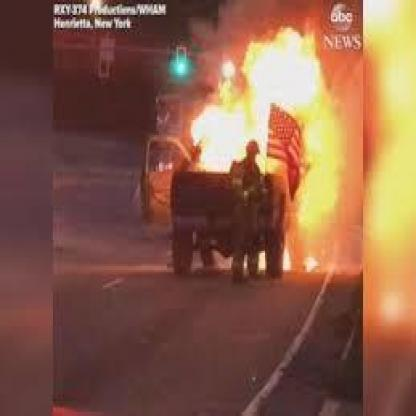fire: (191, 23, 336, 254)
